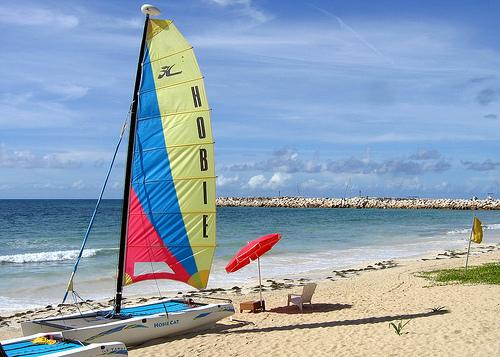Ship: (21, 5, 236, 348)
